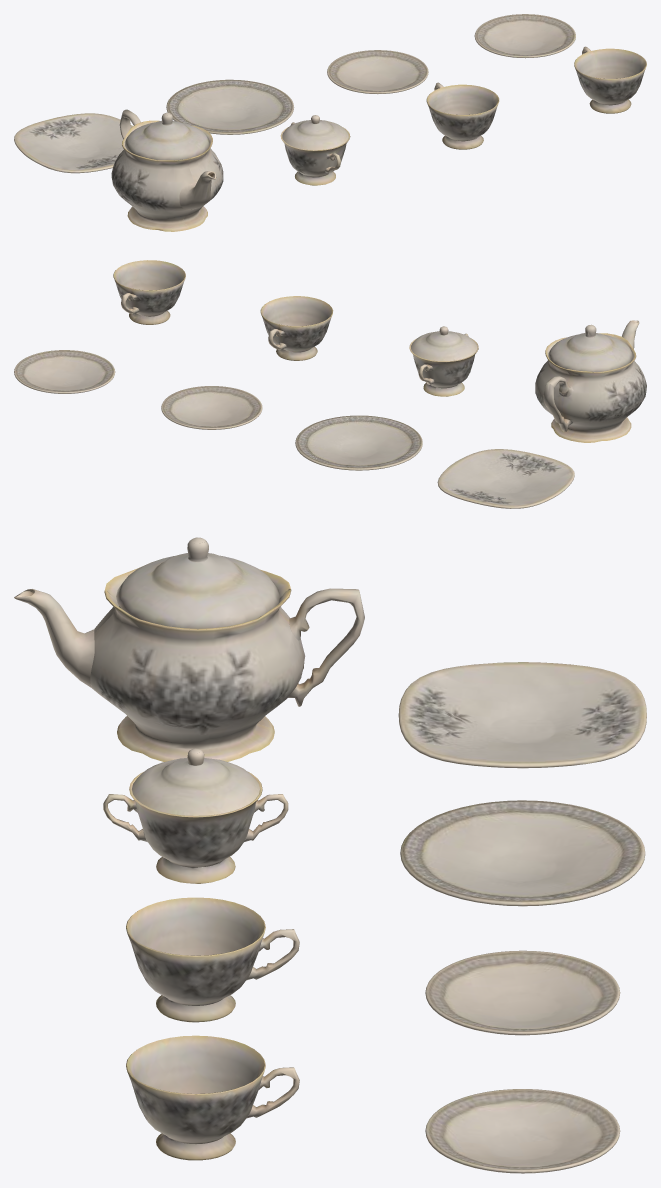
The model's file is tea_set_01.gltf.
3 renders of one model, top to bottom at view 1: azimuth 30°, elevation 25°; view 2: azimuth 150°, elevation 25°; view 3: azimuth 270°, elevation 25°, orthographic. The views are drawn at different scales.
Parts seen in each view (by area): view 1: tea_set_01_teapot_01, tea_set_01_plate_large_circular_03, tea_set_01_plate_large_square_01, tea_set_01_cup_small_01, tea_set_01_cup_small_02, tea_set_01_saucer_circular_03, tea_set_01_saucer_circular_04, tea_set_01_teapot_01_lid, tea_set_01_sugar_cup_01, tea_set_01_sugar_cup_01_lid; view 2: tea_set_01_teapot_01, tea_set_01_plate_large_square_01, tea_set_01_plate_large_circular_03, tea_set_01_cup_small_02, tea_set_01_cup_small_01, tea_set_01_saucer_circular_04, tea_set_01_saucer_circular_03, tea_set_01_teapot_01_lid, tea_set_01_sugar_cup_01, tea_set_01_sugar_cup_01_lid; view 3: tea_set_01_teapot_01, tea_set_01_plate_large_square_01, tea_set_01_plate_large_circular_03, tea_set_01_cup_small_01, tea_set_01_cup_small_02, tea_set_01_saucer_circular_04, tea_set_01_saucer_circular_03, tea_set_01_teapot_01_lid, tea_set_01_sugar_cup_01, tea_set_01_sugar_cup_01_lid.
Boxes of the visible parts, box(x1,y1,x2,y2) form: tea_set_01_teapot_01: box(111, 109, 223, 231); tea_set_01_plate_large_circular_03: box(166, 79, 294, 134); tea_set_01_plate_large_square_01: box(14, 113, 133, 173); tea_set_01_cup_small_01: box(426, 82, 499, 149); tea_set_01_cup_small_02: box(574, 46, 646, 113); tea_set_01_saucer_circular_03: box(474, 14, 575, 58); tea_set_01_saucer_circular_04: box(327, 50, 428, 94); tea_set_01_teapot_01_lid: box(124, 112, 209, 160); tea_set_01_sugar_cup_01: box(280, 122, 350, 185); tea_set_01_sugar_cup_01_lid: box(282, 115, 348, 150); tea_set_01_teapot_01: box(535, 320, 646, 442); tea_set_01_plate_large_square_01: box(437, 449, 574, 508); tea_set_01_plate_large_circular_03: box(295, 415, 422, 470); tea_set_01_cup_small_02: box(113, 260, 185, 324); tea_set_01_cup_small_01: box(260, 296, 333, 360); tea_set_01_saucer_circular_04: box(161, 386, 262, 429); tea_set_01_saucer_circular_03: box(14, 350, 115, 393); tea_set_01_teapot_01_lid: box(548, 324, 633, 371); tea_set_01_sugar_cup_01: box(409, 333, 478, 396); tea_set_01_sugar_cup_01_lid: box(411, 326, 477, 361); tea_set_01_teapot_01: box(14, 567, 364, 761); tea_set_01_plate_large_square_01: box(398, 662, 646, 768); tea_set_01_plate_large_circular_03: box(400, 800, 645, 906); tea_set_01_cup_small_01: box(126, 897, 299, 1022); tea_set_01_cup_small_02: box(126, 1035, 299, 1160); tea_set_01_saucer_circular_04: box(425, 950, 620, 1035); tea_set_01_saucer_circular_03: box(425, 1089, 620, 1173); tea_set_01_teapot_01_lid: box(116, 537, 280, 628); tea_set_01_sugar_cup_01: box(103, 771, 288, 883); tea_set_01_sugar_cup_01_lid: box(132, 748, 259, 815).
Size of the model in its own units: 0.9185 by 0.165 by 0.484.
1 material, 1 textured.
